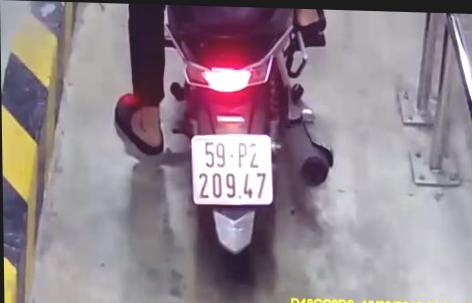License_Plate: (183, 130, 276, 212)
